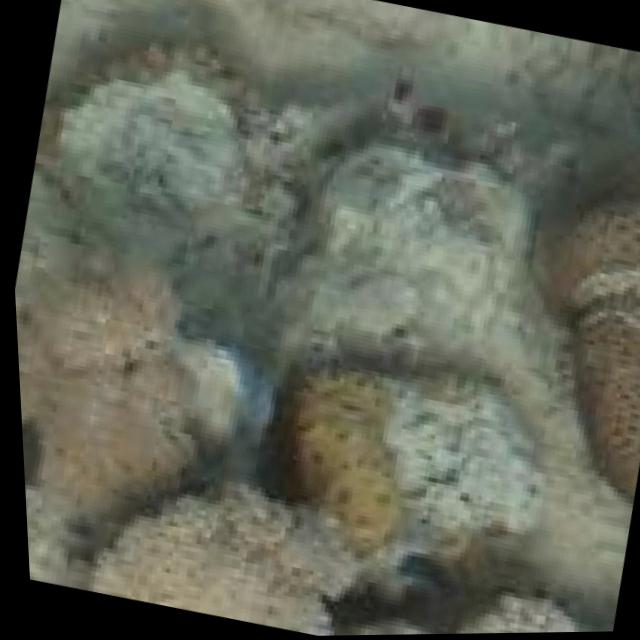Bleached Coral: (298, 104, 549, 376), (49, 21, 275, 273), (350, 367, 554, 549)
